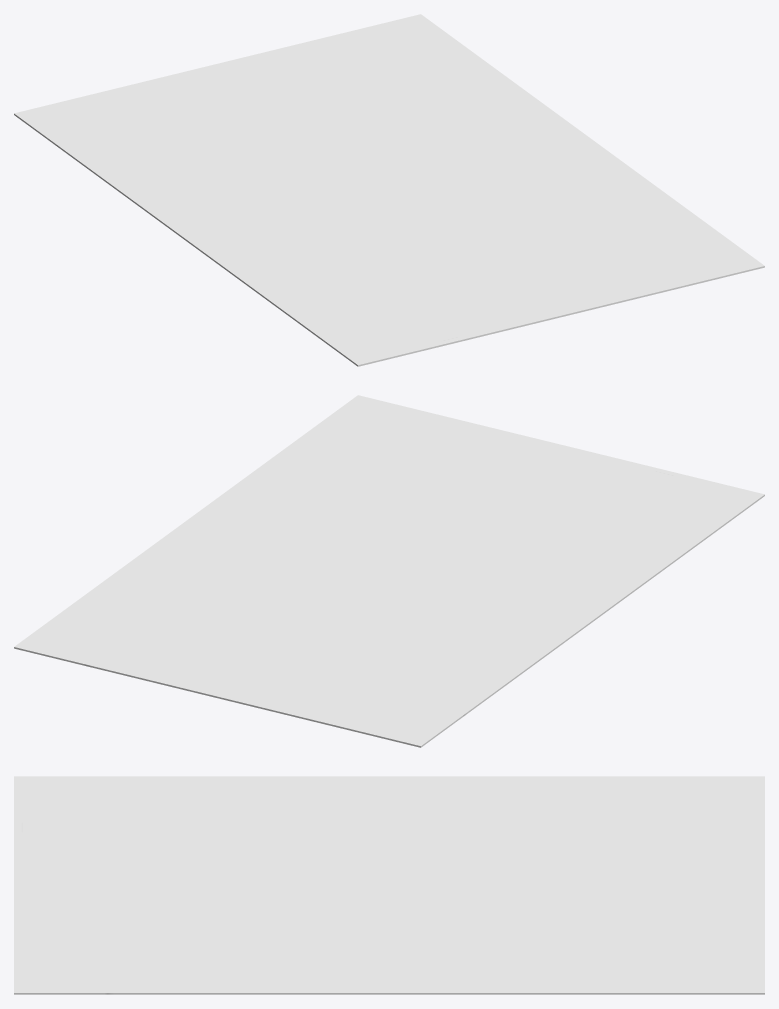
The model's file is Book_Page.fbx.
The picture shows the model from 3 angles, top to bottom: view 1: azimuth 30°, elevation 25°; view 2: azimuth 150°, elevation 25°; view 3: azimuth 270°, elevation 25°; orthographic projection. The views are drawn at different scales.
Parts seen in each view (by area): view 1: Object003; view 2: Object003; view 3: Object003.
Part boxes in pixels (box(x1,y1,x2,y2)): Object003: box(14, 14, 764, 366); Object003: box(14, 395, 764, 747); Object003: box(14, 776, 764, 994).
Bounding box in the file's own units: 143 × 0.5483 × 210.
Materials: 1 (1 with a texture image).
